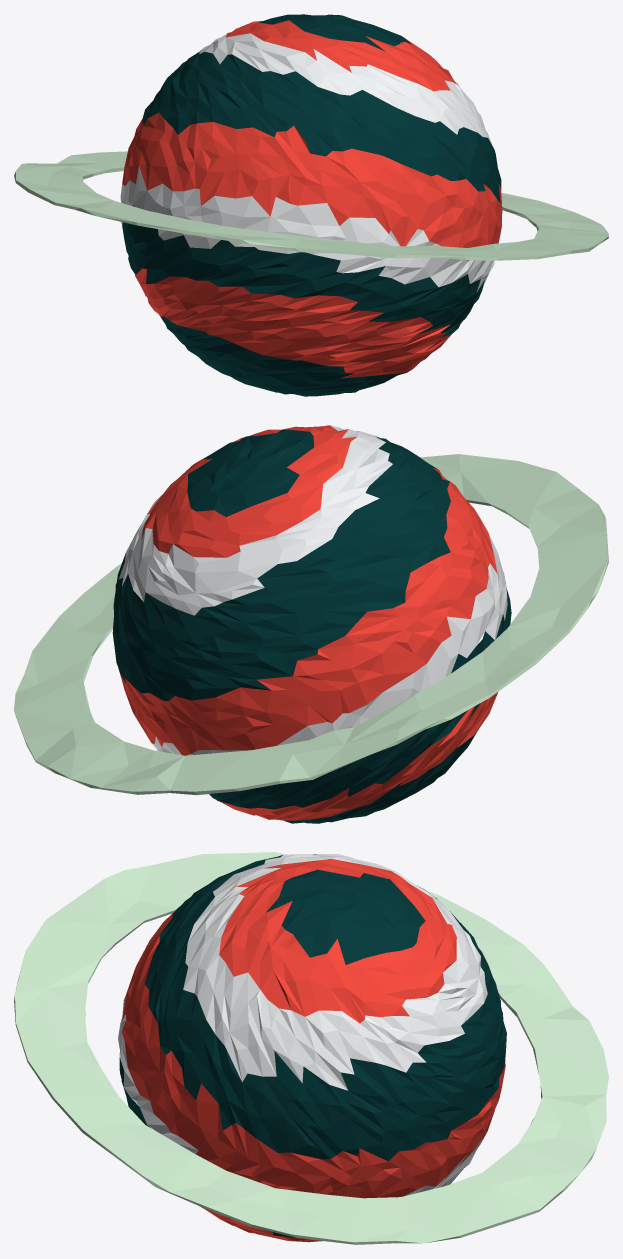
The model's file is Planet_43.glb.
3 renders of one model, top to bottom at view 1: azimuth 30°, elevation 25°; view 2: azimuth 150°, elevation 25°; view 3: azimuth 270°, elevation 25°, orthographic. The views are drawn at different scales.
Visible parts, largest first — view 1: Planet_43; view 2: Planet_43; view 3: Planet_43.
Boxes of the visible parts, bbox=[...] form: Planet_43: bbox=[14, 14, 608, 396]; Planet_43: bbox=[14, 425, 608, 823]; Planet_43: bbox=[14, 852, 608, 1244].
Size of the model in its own units: 30.6 by 20.23 by 30.79.
1 material, 1 textured.
